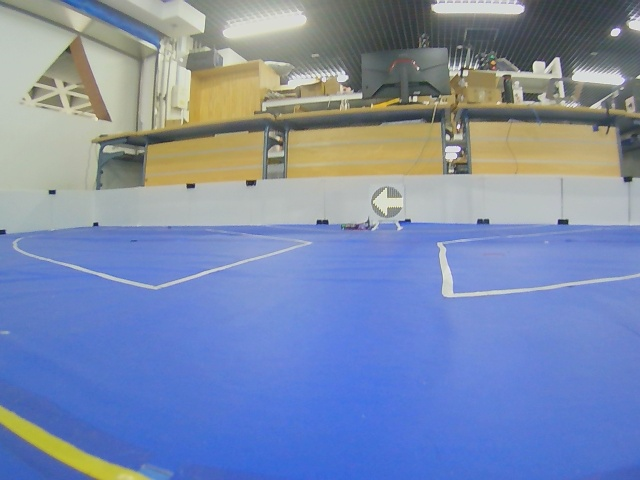left_yellow: (372, 187, 404, 218)
